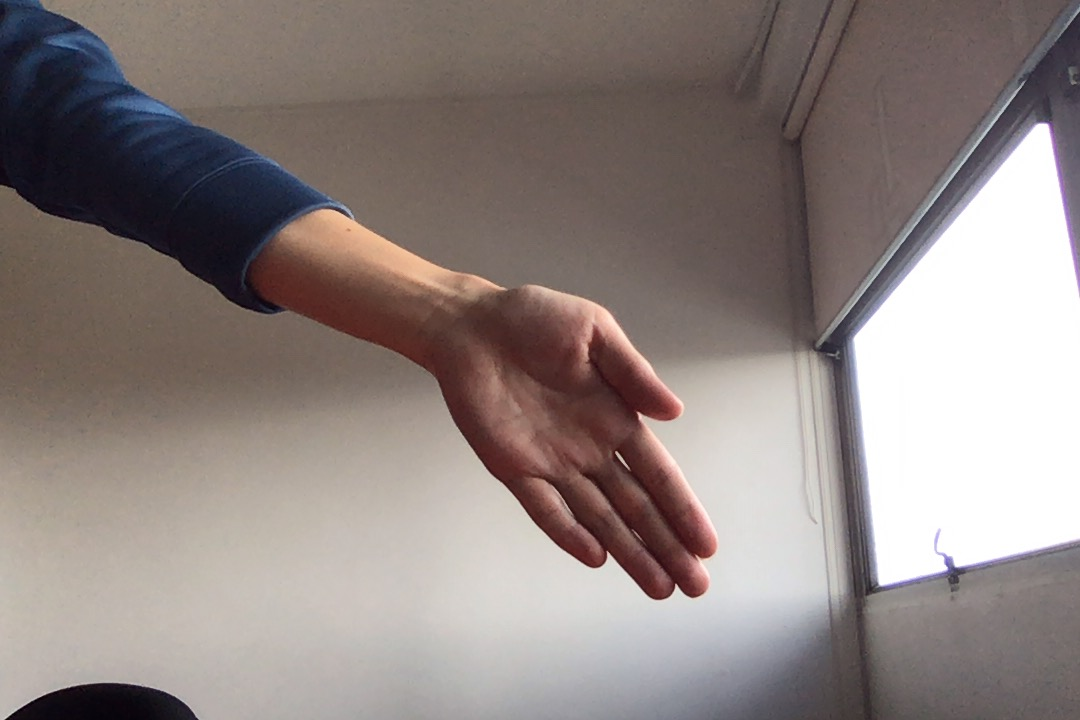palmhand: (442, 268, 723, 605)
